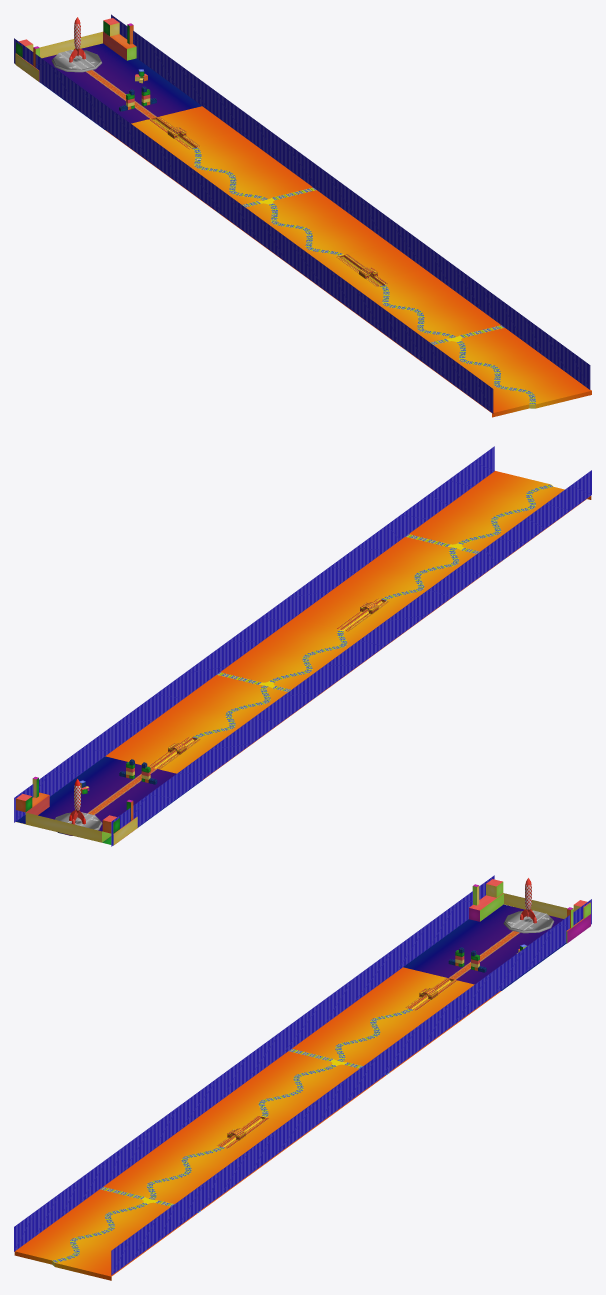
The model's file is piso11.FBX.
3 renders of one model, top to bottom at view 1: azimuth 30°, elevation 25°; view 2: azimuth 150°, elevation 25°; view 3: azimuth 330°, elevation 25°, orthographic.
Visible parts, largest first — view 1: Plane014, Plane015, Box004; view 2: Plane014, Plane015, Box004; view 3: Plane014, Plane015, Box004.
Boxes of the visible parts, x1,y1,x2,y2 form: Plane014: (39, 43, 591, 417); Plane015: (14, 14, 590, 413); Box004: (15, 18, 136, 81); Plane014: (16, 471, 591, 835); Plane015: (14, 446, 591, 846); Box004: (16, 776, 137, 845); Plane014: (14, 904, 566, 1280); Plane015: (14, 875, 591, 1275); Box004: (469, 884, 590, 943).
Size of the model in its own units: 876 by 7389 by 429.
Materials: 21 (21 with a texture image).
